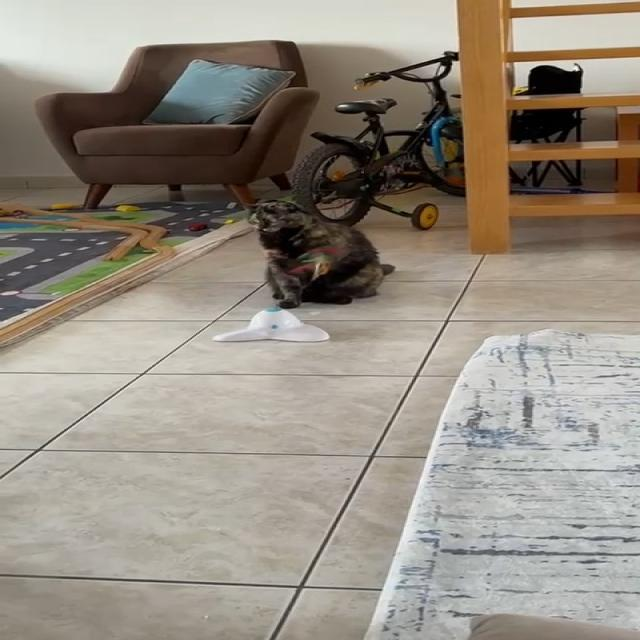authorized: (241, 197, 396, 309)
